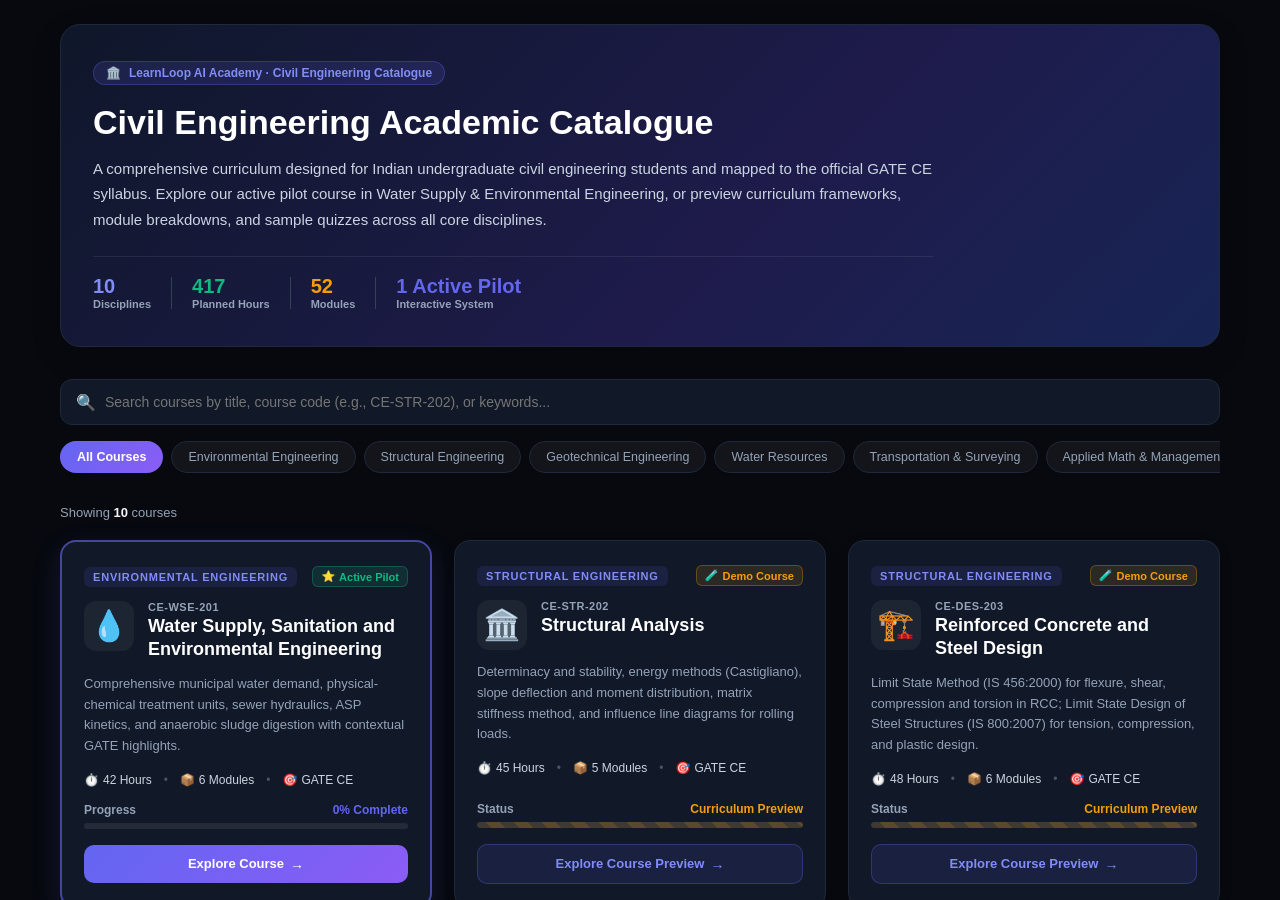
it: Civil Engineering Course Catalogue & Demo Course Showcase › Search input filters courses by code and keywords
The width and height of the screenshot is (1280, 900).
Replace the text in the field with placeholder "Search courses by title, course code" with "CE-GEO-204" at [640, 402], box left=60, top=379, right=1220, bottom=425
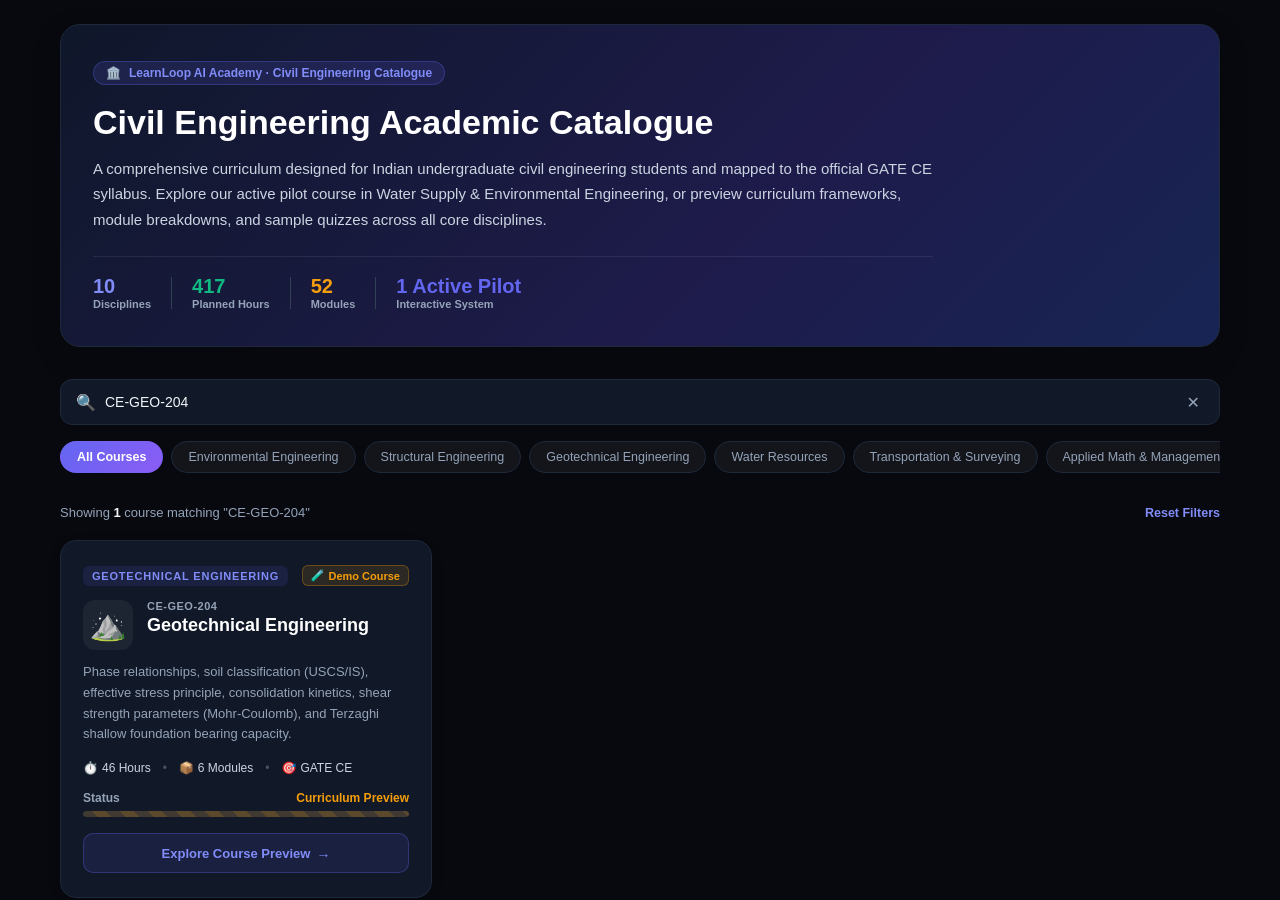
Expected: the heading "Geotechnical Engineering" is shown, left=147, top=615, right=369, bottom=635
Expected: the text "Structural Analysis" is gone
